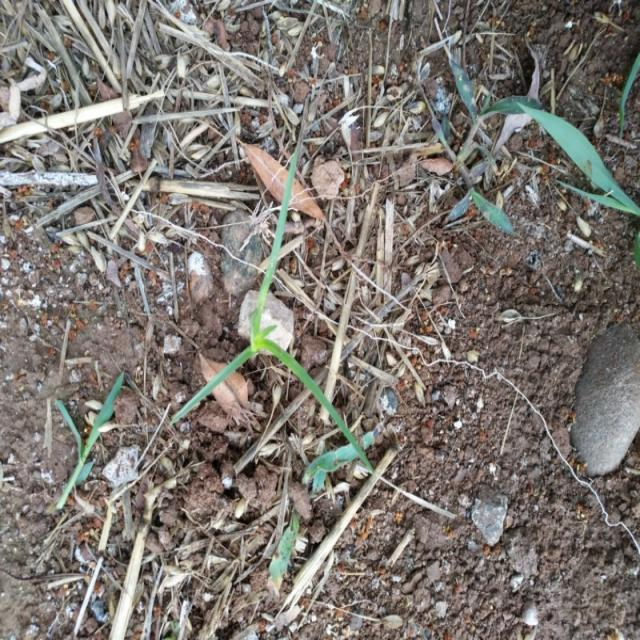sedge: (148, 161, 395, 512)
